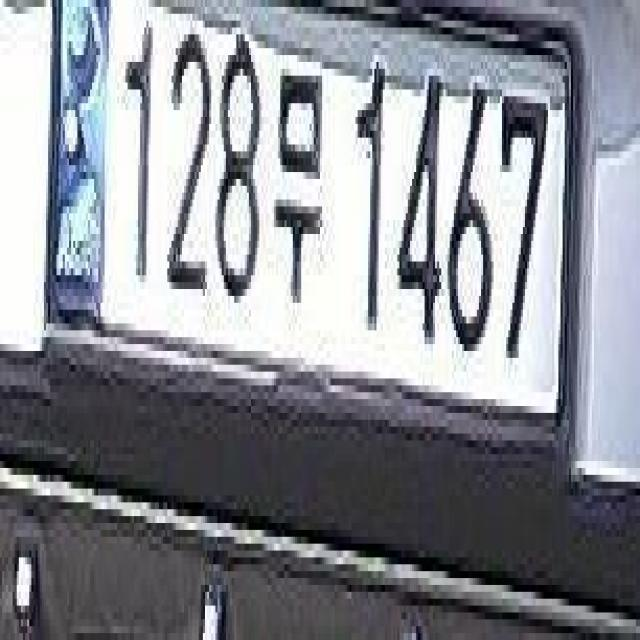illegal_plate: (37, 1, 578, 451)
